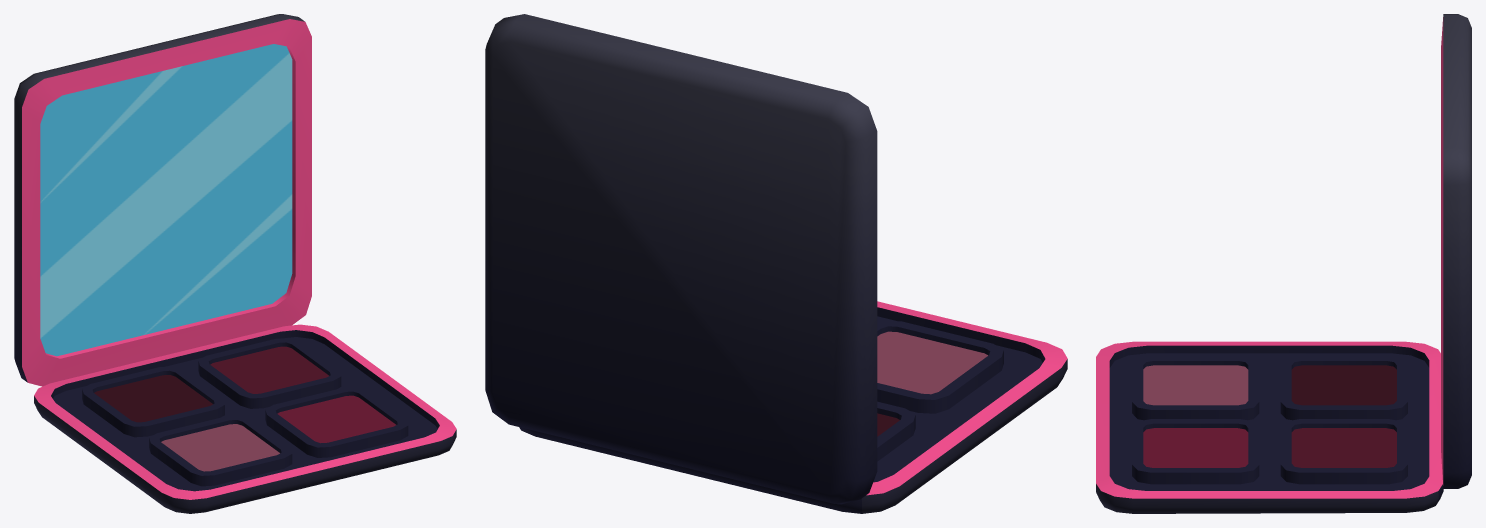
The model's file is Eyeshadow_Palette_02.fbx.
3 views of the same model, side by side, from view 1: azimuth 30°, elevation 25°; view 2: azimuth 150°, elevation 25°; view 3: azimuth 270°, elevation 25° (orthographic). The views are drawn at different scales.
Parts seen in each view (by area): view 1: Eyeshadow_Palette_02; view 2: Eyeshadow_Palette_02; view 3: Eyeshadow_Palette_02.
Part boxes in pixels (box(x1,y1,x2,y2)): Eyeshadow_Palette_02: box(14, 14, 456, 513); Eyeshadow_Palette_02: box(485, 14, 1067, 513); Eyeshadow_Palette_02: box(1096, 14, 1471, 513).
Size of the model in its own units: 0.0939 by 0.1003 by 0.0951.
1 material, 1 textured.
